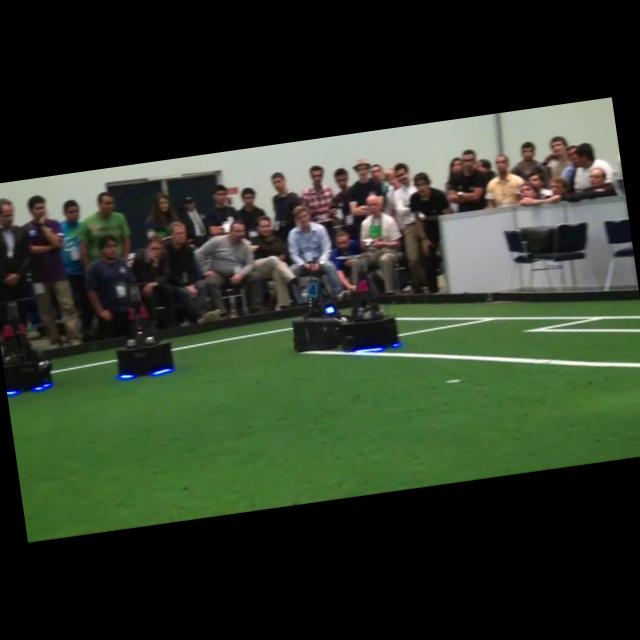robot: (117, 284, 174, 379), (0, 300, 52, 395), (339, 272, 399, 351), (293, 261, 341, 352)
